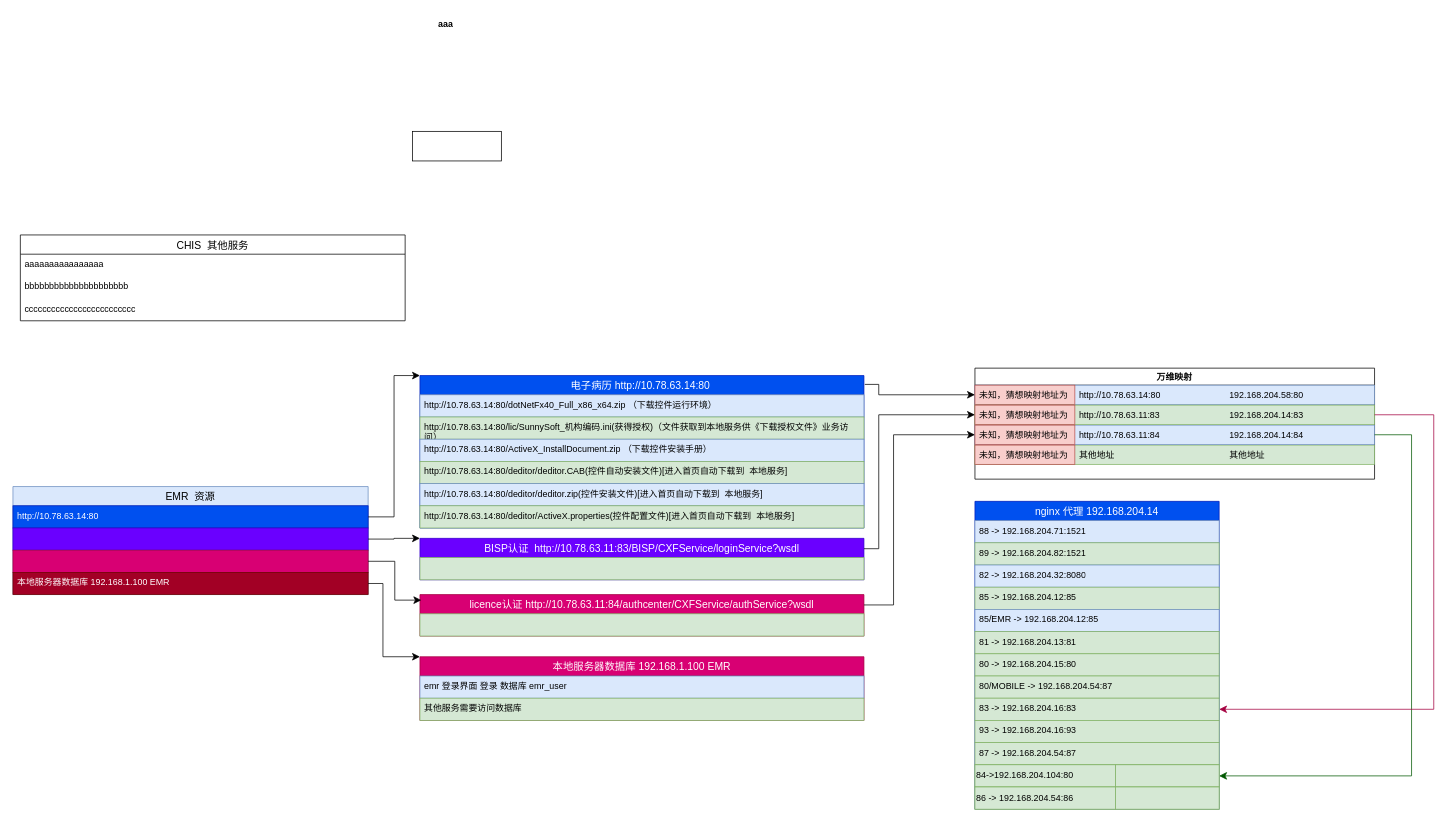
Image size: 1454x822. Some labels were removed from this diagram. The shapes that lost their labels are listed below. From the top down, each one's centre as x and y in pixels, then its label:
At pixel 456 146: "榆中县城关镇卫生院 10.79.49.243".
At pixel 190 538: "http://10.78.63.11:83/BISP/CXFService/loginService?wsdl".
At pixel 190 560: "http://10.78.63.11:84/authcenter/CXFService/authService?wsdl".
At pixel 641 568: "emr 登录界面 登录需要访问 远程服务账号密码".
At pixel 641 624: "emr 登录界面 登录 后认证 licence".
At pixel 1167 775: "authcenter".
At pixel 1167 797: "lis".
